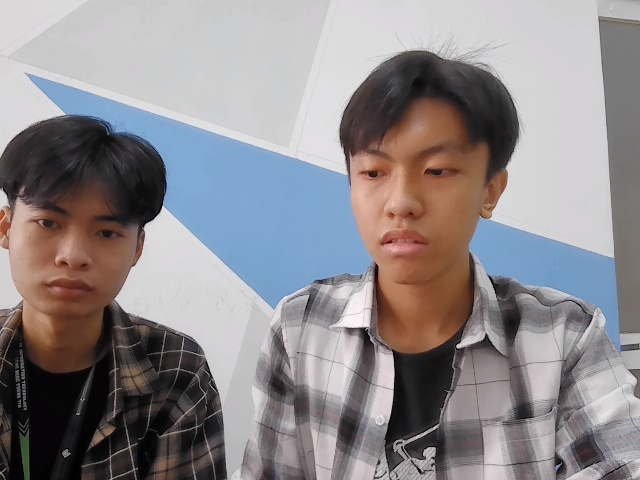human: (332, 48, 523, 272), (4, 111, 168, 324)
